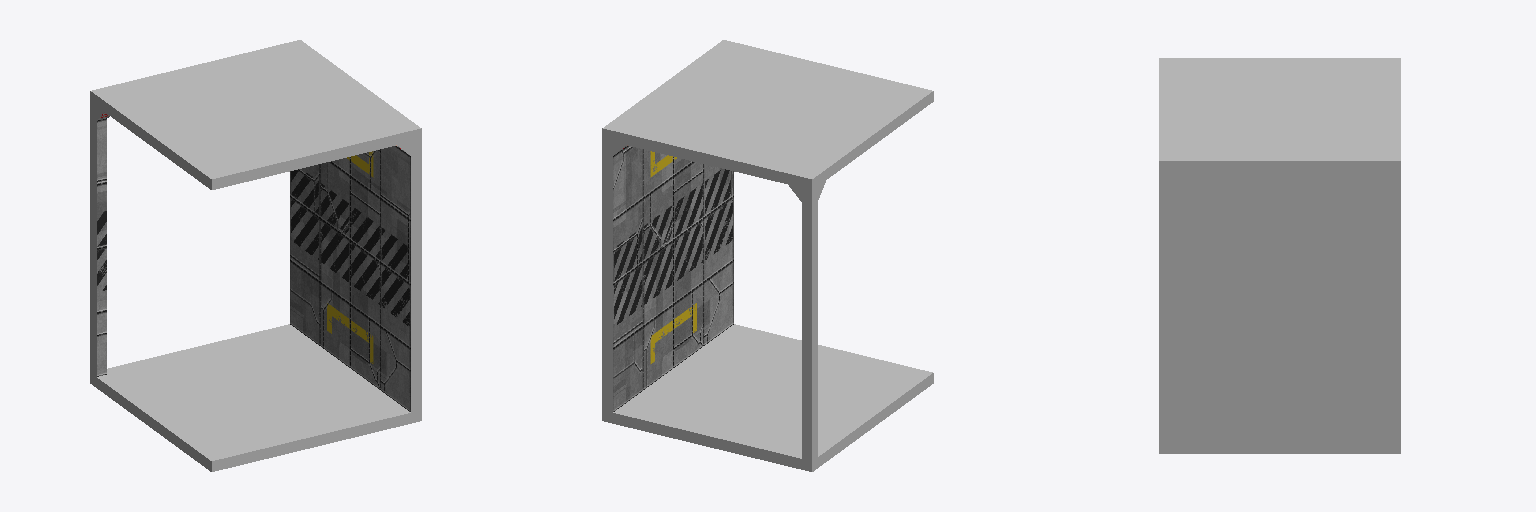
3 views of the same model, side by side, from view 1: azimuth 30°, elevation 25°; view 2: azimuth 150°, elevation 25°; view 3: azimuth 270°, elevation 25° (orthographic).
Parts seen in each view (by area): view 1: Body.012; view 2: Body.012; view 3: Body.012.
Boxes of the visible parts, x1=… form: Body.012: x1=90, y1=40, x2=421, y2=471; Body.012: x1=602, y1=40, x2=933, y2=471; Body.012: x1=1159, y1=58, x2=1400, y2=453.
Bounding box in the file's own units: 1.5 × 2 × 1.5.
3 materials, 2 textured.